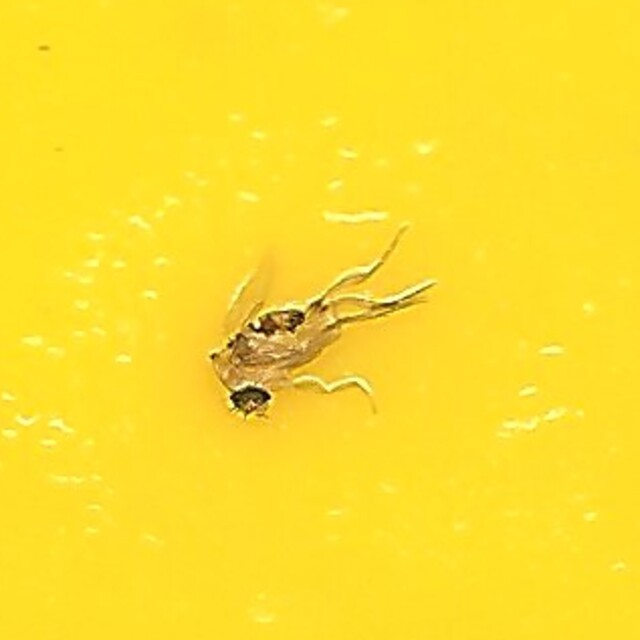Nematocera: (202, 202, 438, 438)
